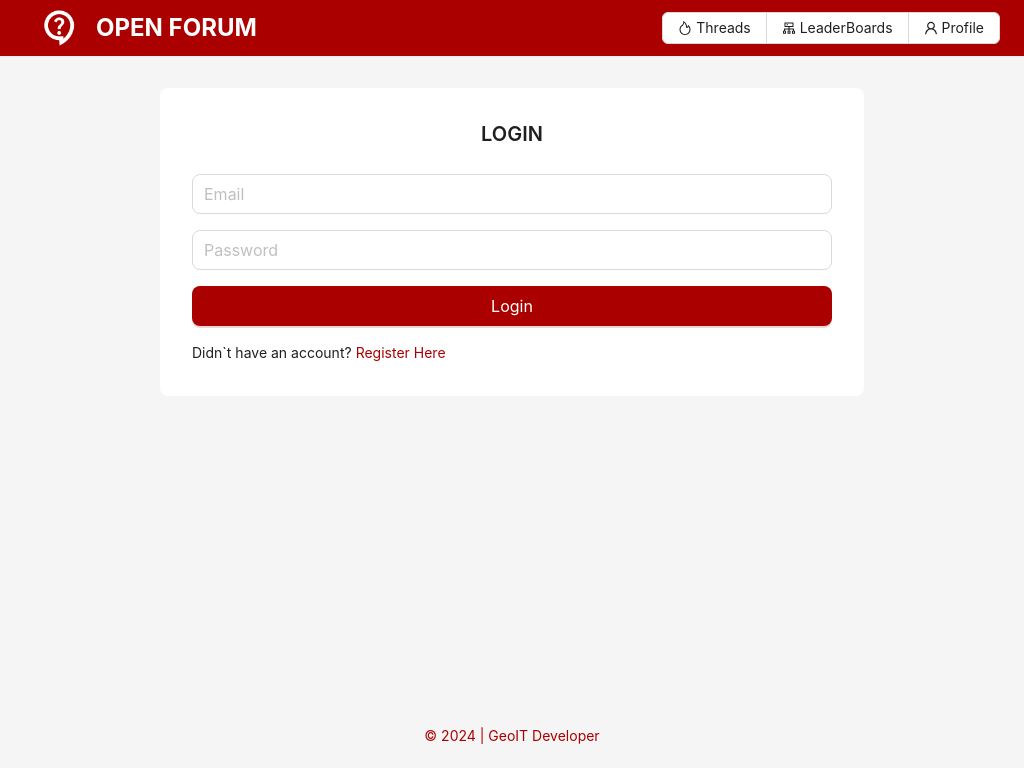
it: Login spec › should display alert when password is empty
The width and height of the screenshot is (1024, 768).
Type "user01@mail.com" into the field with placeholder "Email" at [512, 194], box [192,174,832,214]
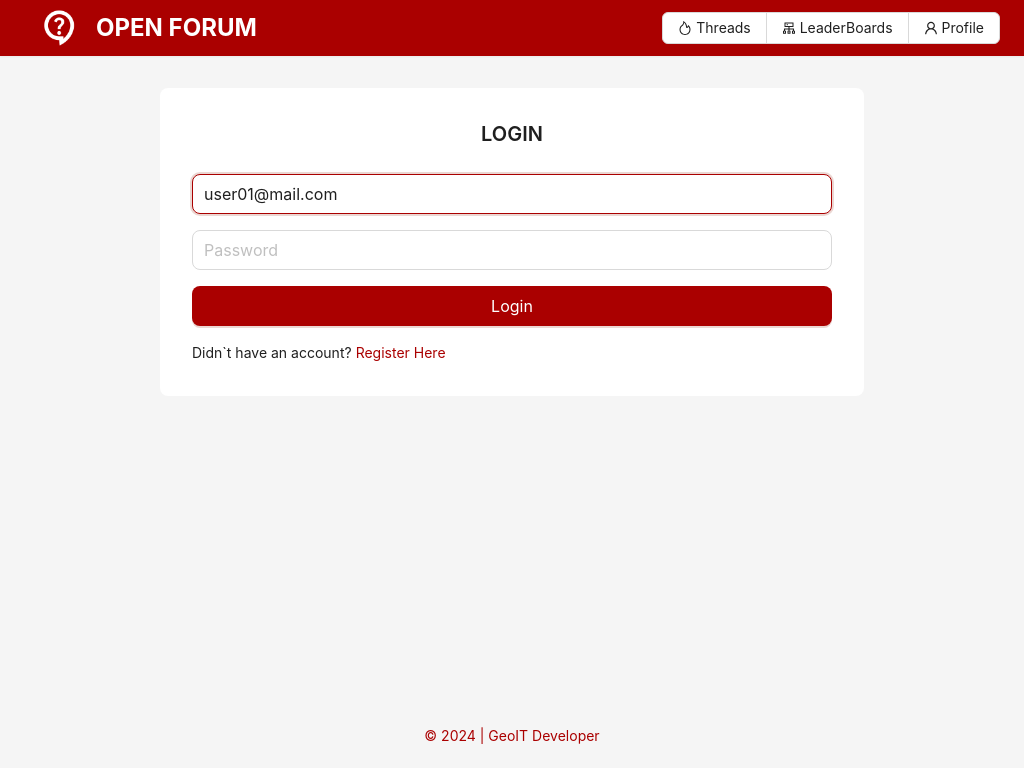
Click the button "Login" at [512, 306], box [192,286,832,326]
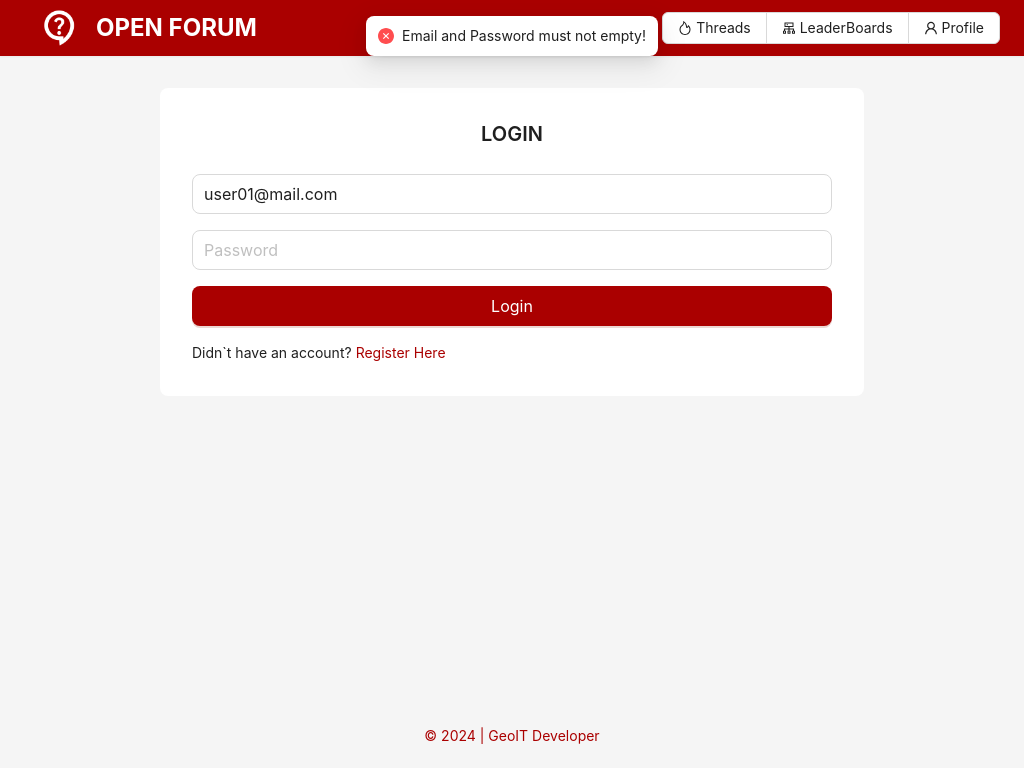
Result: the text "Email and Password must not empty!" is shown at [366,16,658,56]
